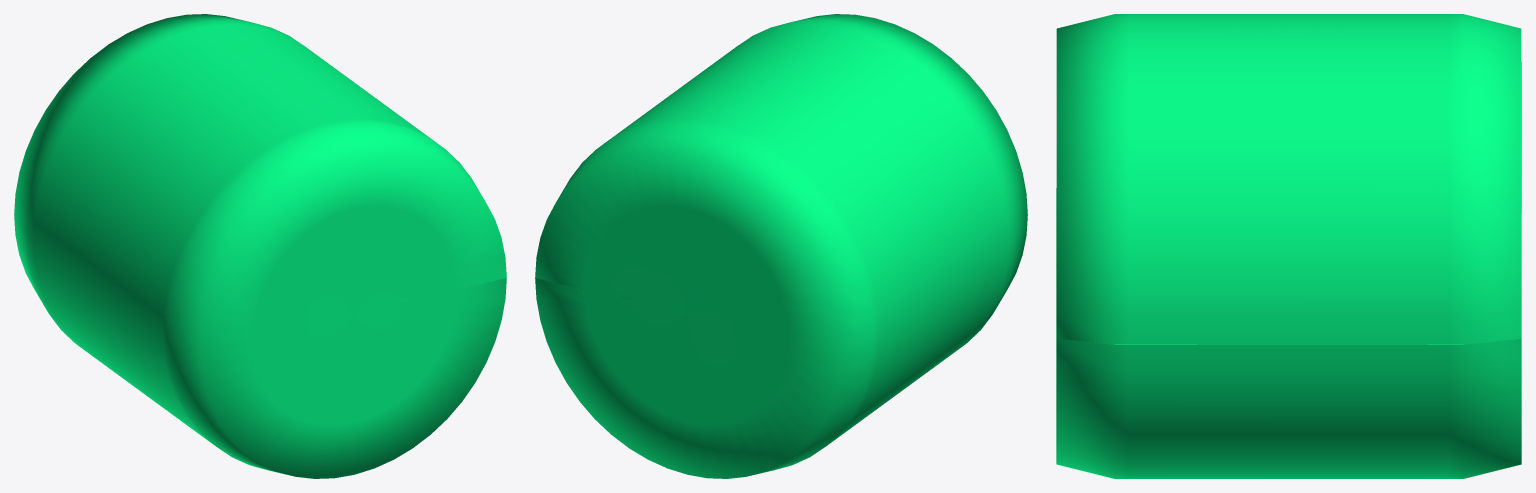
Rendered from volume_cylinder_physics_animated_1767168307842.glb.
3 views of the same model, side by side, from view 1: azimuth 30°, elevation 25°; view 2: azimuth 150°, elevation 25°; view 3: azimuth 270°, elevation 25° (orthographic). The views are drawn at different scales.
Visible parts, largest first — view 1: MathShape; view 2: MathShape; view 3: MathShape.
Boxes of the visible parts, <box> form: MathShape: <box>14,14,506,478</box>; MathShape: <box>535,14,1027,478</box>; MathShape: <box>1056,14,1521,478</box>.
Bounding box in the file's own units: 2 × 2 × 2.
